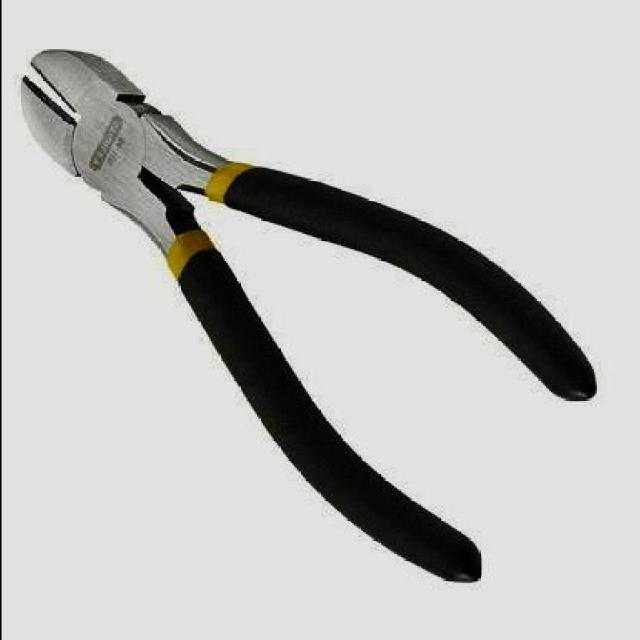pliers: (19, 33, 598, 584)
